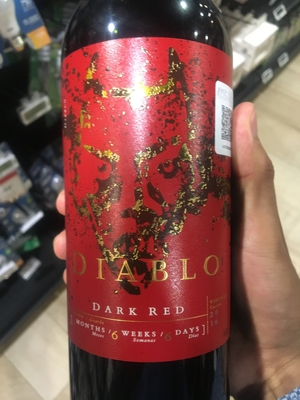diablo dark red: (49, 20, 259, 400)
